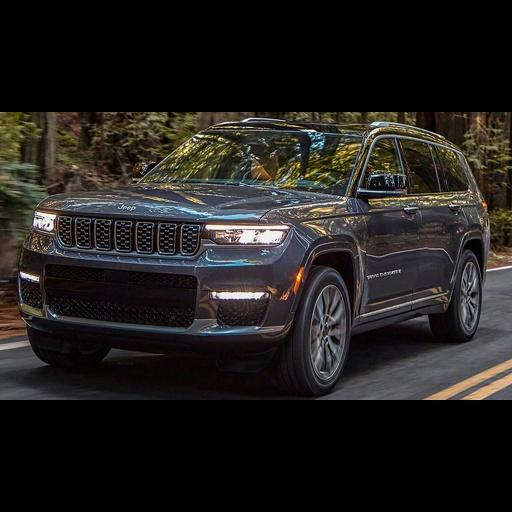suv: (19, 118, 489, 393)
